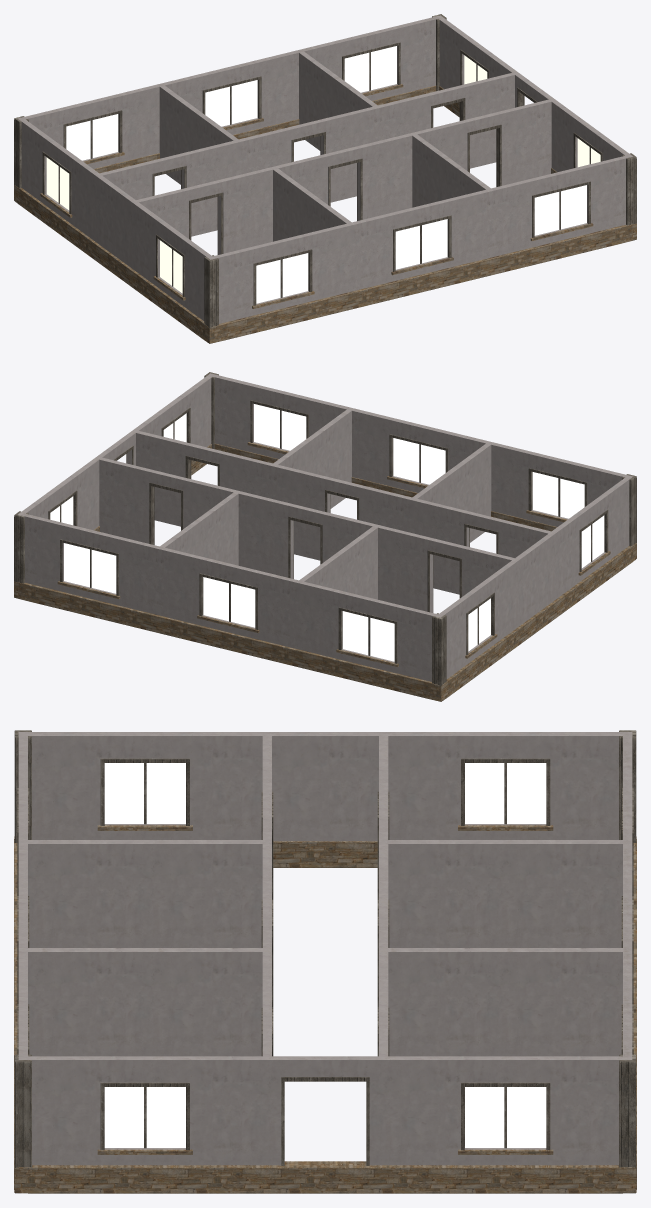
The model's file is walls.glb.
3 renders of one model, top to bottom at view 1: azimuth 30°, elevation 25°; view 2: azimuth 150°, elevation 25°; view 3: azimuth 270°, elevation 25°, orthographic. The views are drawn at different scales.
Visible parts, largest first — view 1: walls; view 2: walls; view 3: walls.
Boxes of the visible parts, x1,y1,x2,y2 form: walls: [14, 14, 636, 343]; walls: [14, 372, 636, 701]; walls: [14, 730, 636, 1193].
Bounding box in the file's own units: 13.52 × 2.5 × 10.72.
4 materials, 3 textured.
